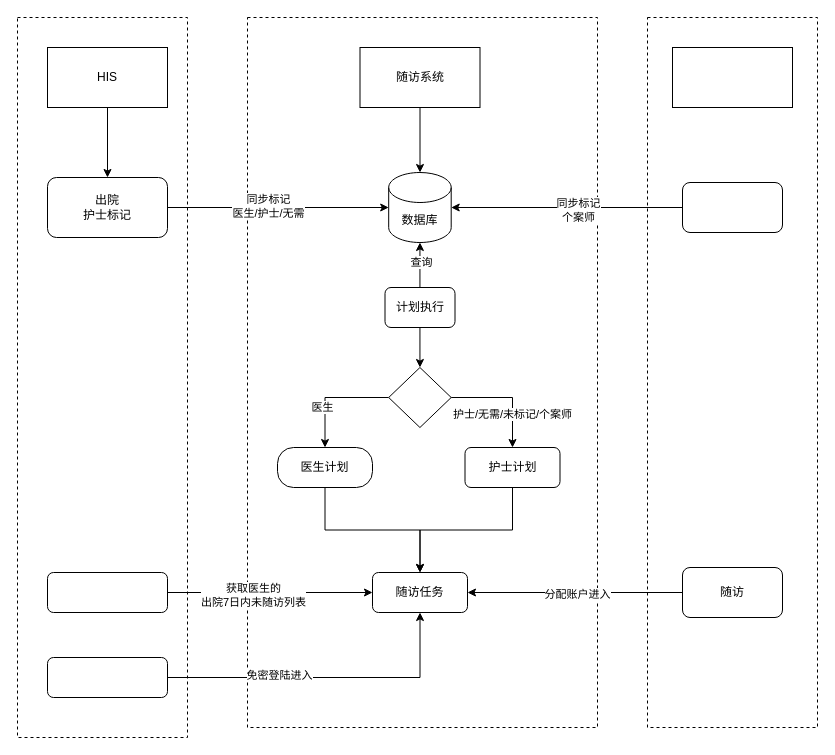
Some shapes in this 835 by 755 pixel diagram are drawn without their labels. Here are the shapes that lost their labels. From the top down, the centre of each, then its label:
At pixel 732 77: "个案系统".
At pixel 732 207: "收案".
At pixel 419 397: "判断 标记".
At pixel 107 592: "消息提醒".
At pixel 107 677: "随访快捷入口".
